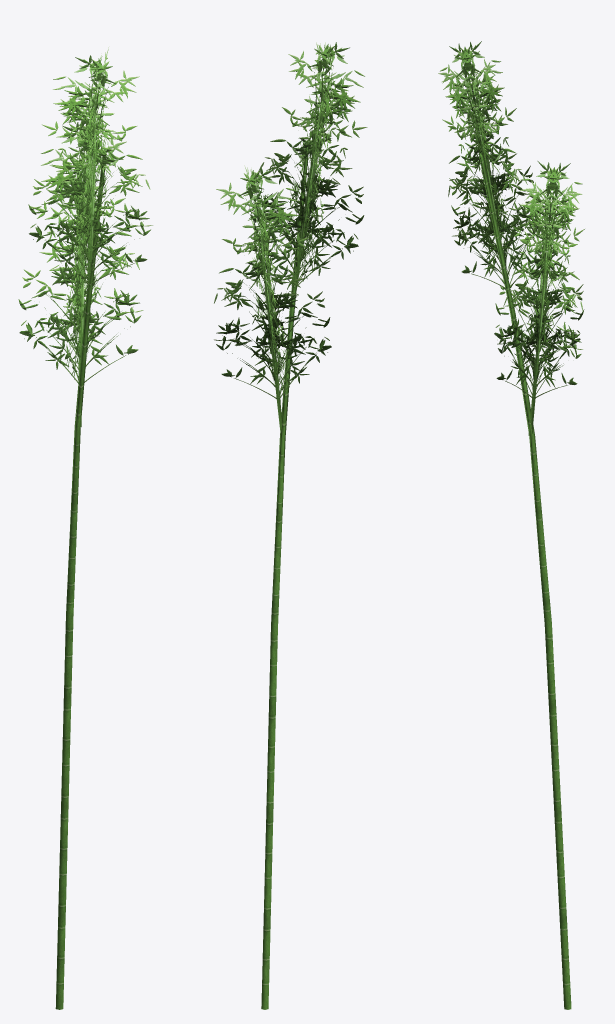
The model's file is bamboo03.fbx.
3 renders of one model, left to right at view 1: azimuth 30°, elevation 25°; view 2: azimuth 150°, elevation 25°; view 3: azimuth 270°, elevation 25°, orthographic. The views are drawn at different scales.
Parts seen in each view (by area): view 1: mdl_LOD0_sw; view 2: mdl_LOD0_sw; view 3: mdl_LOD0_sw.
Part boxes in pixels (x1,y1,x2,y2): mdl_LOD0_sw: [18, 47, 152, 1009]; mdl_LOD0_sw: [214, 42, 367, 1009]; mdl_LOD0_sw: [438, 41, 584, 1009].
Size of what is drawn, in the model's own units: 312 by 2575 by 438.
